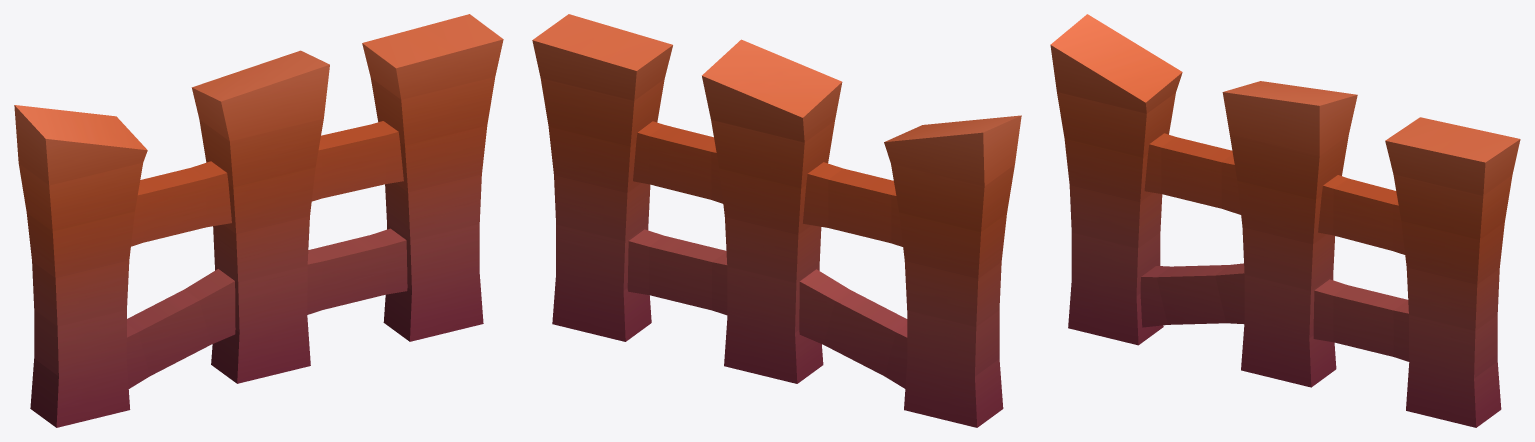
Rendered from Fence_Variant_3.fbx.
The picture shows the model from 3 angles, left to right: view 1: azimuth 30°, elevation 25°; view 2: azimuth 150°, elevation 25°; view 3: azimuth 330°, elevation 25°; orthographic projection. The views are drawn at different scales.
Parts seen in each view (by area): view 1: Fence 3; view 2: Fence 3; view 3: Fence 3.
Boxes of the visible parts, x1,y1,x2,y2 form: Fence 3: (14, 14, 503, 427); Fence 3: (532, 14, 1021, 427); Fence 3: (1050, 14, 1520, 427).
Size of the model in its own units: 208 by 132 by 30.24.
